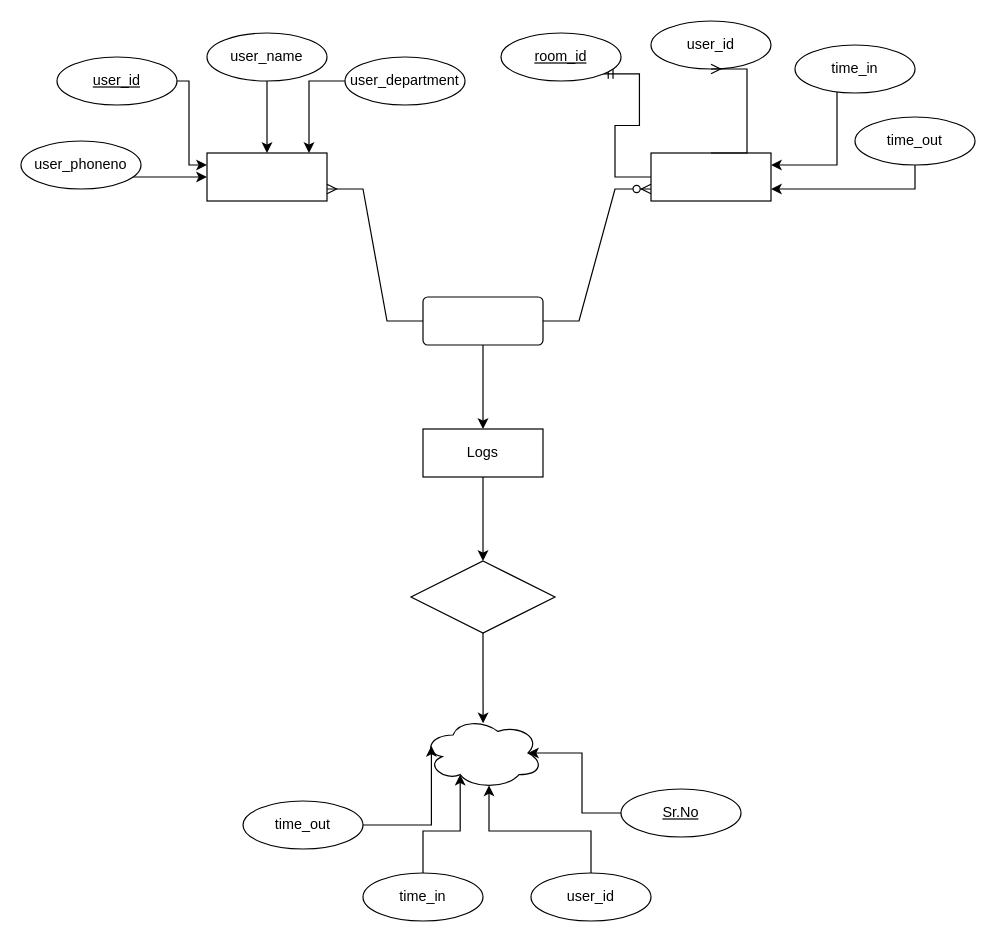
Some shapes in this 996 by 942 pixel diagram are drawn without their labels. The shapes that lost their labels are listed below. From the top down, each one's box as (x1, y1, x2, y2) in pixels, then its label:
(206, 152, 327, 201): Users
(650, 152, 771, 201): Rooms
(422, 296, 543, 345): Permission
(410, 560, 555, 633): Internet Available
(422, 716, 543, 789): Cloud
